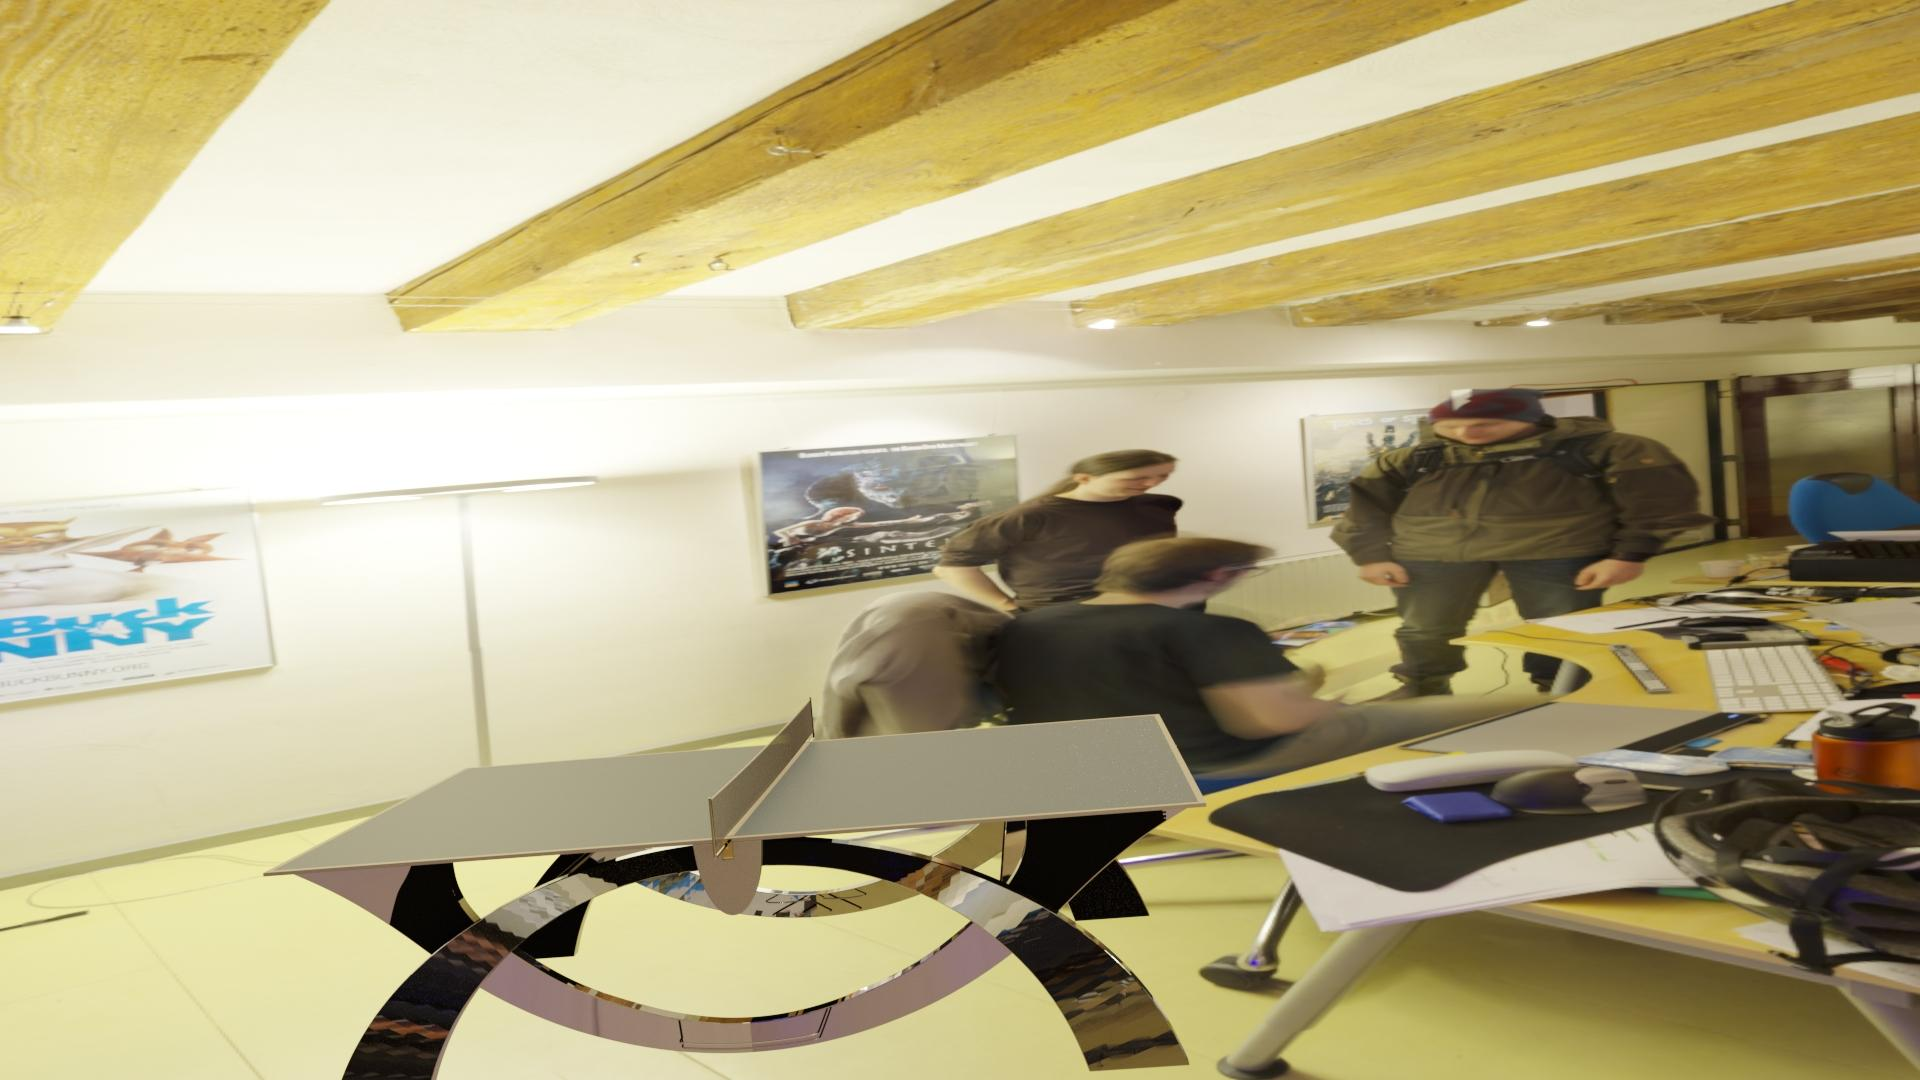table: (273, 715, 1199, 870)
